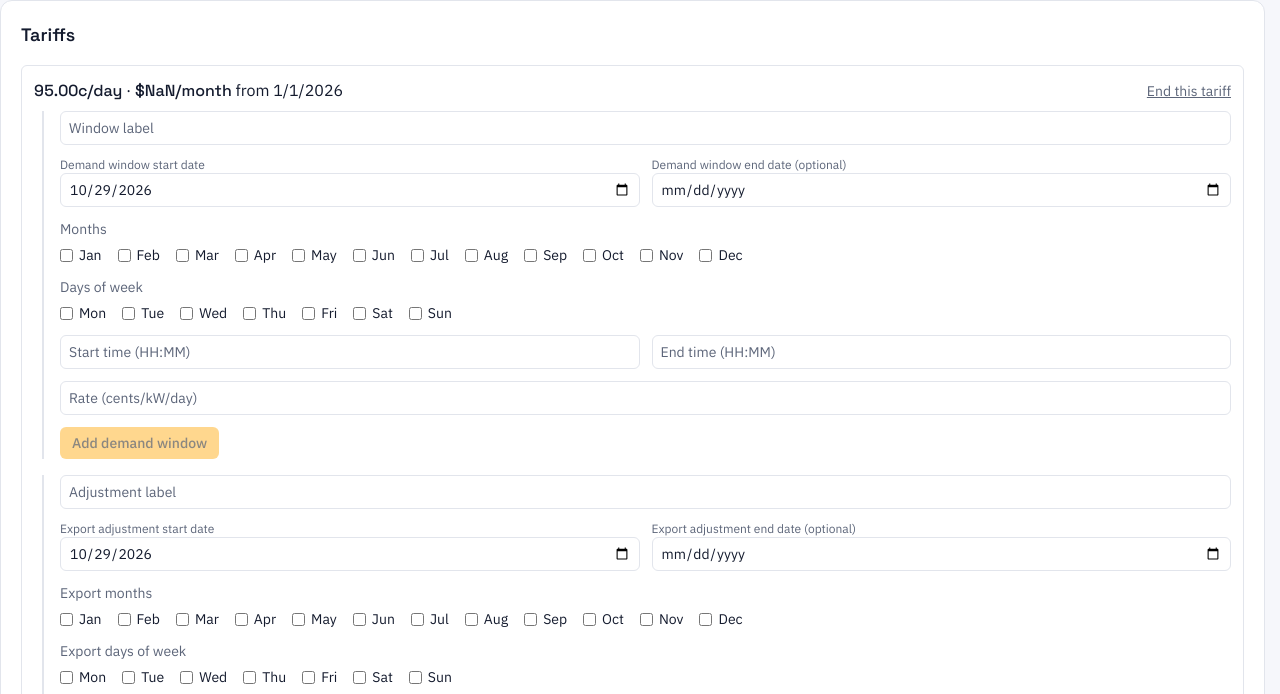
Test: Billing tabs › shows an error when ending a tariff fails
Expected: the text "95.00c/day" is shown, [34,80,122,101]
Step 1. Click the button "End this tariff" → [1189, 90], box [1147,80,1231,100]
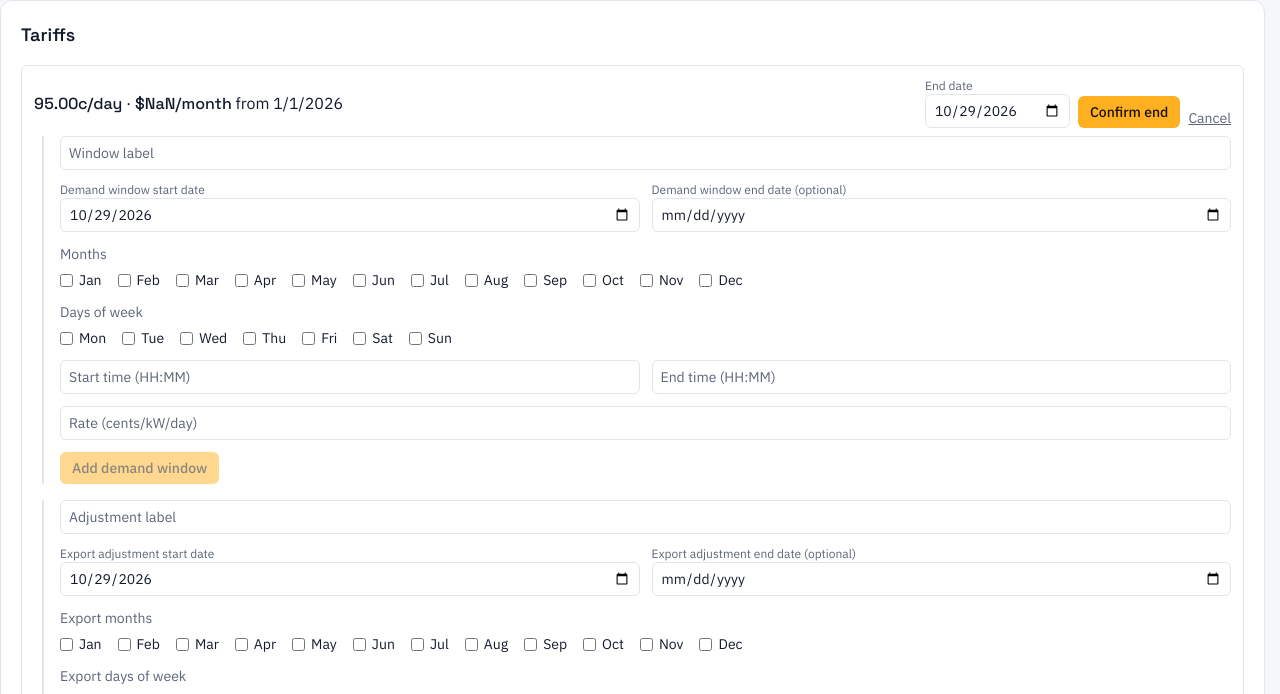
Step 2. Click the button "Confirm end" → [1129, 112], box [1078,96,1180,128]
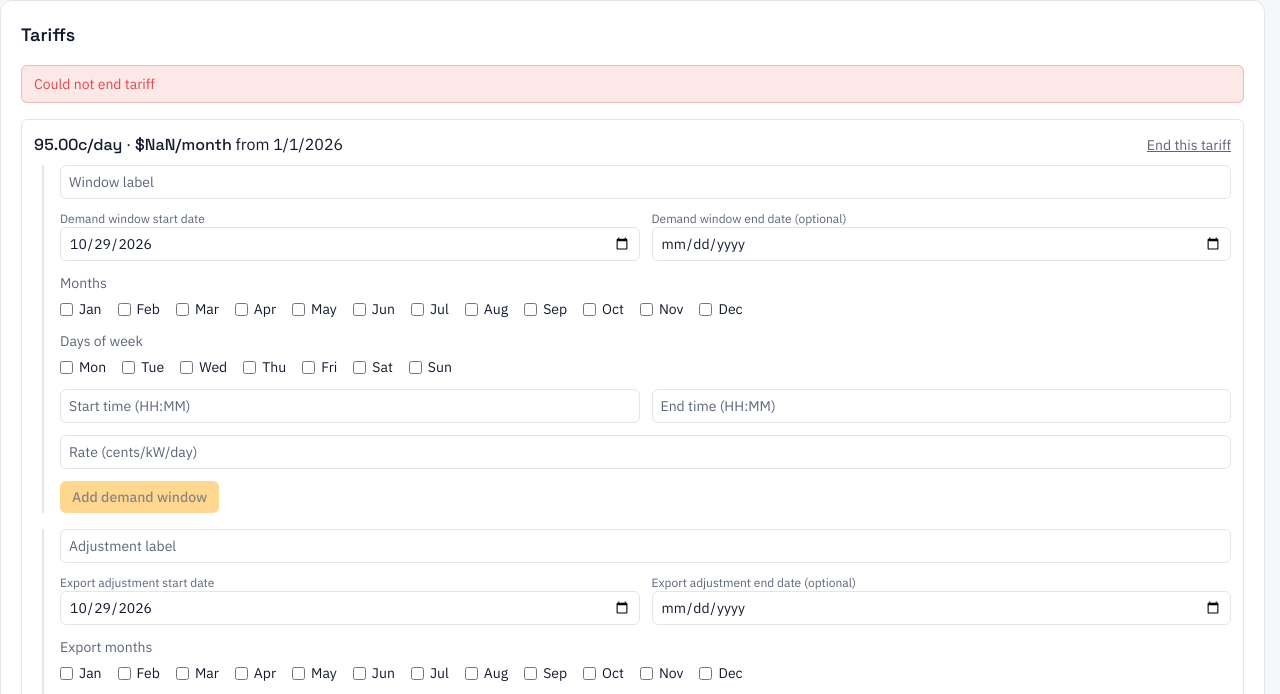
Expected: the message reads "Could not end tariff", [34,75,155,93]
